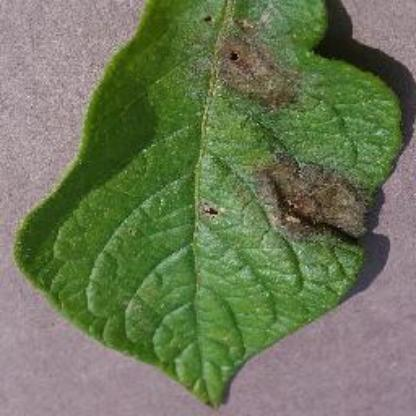Late-Blight: (29, 0, 415, 392)
